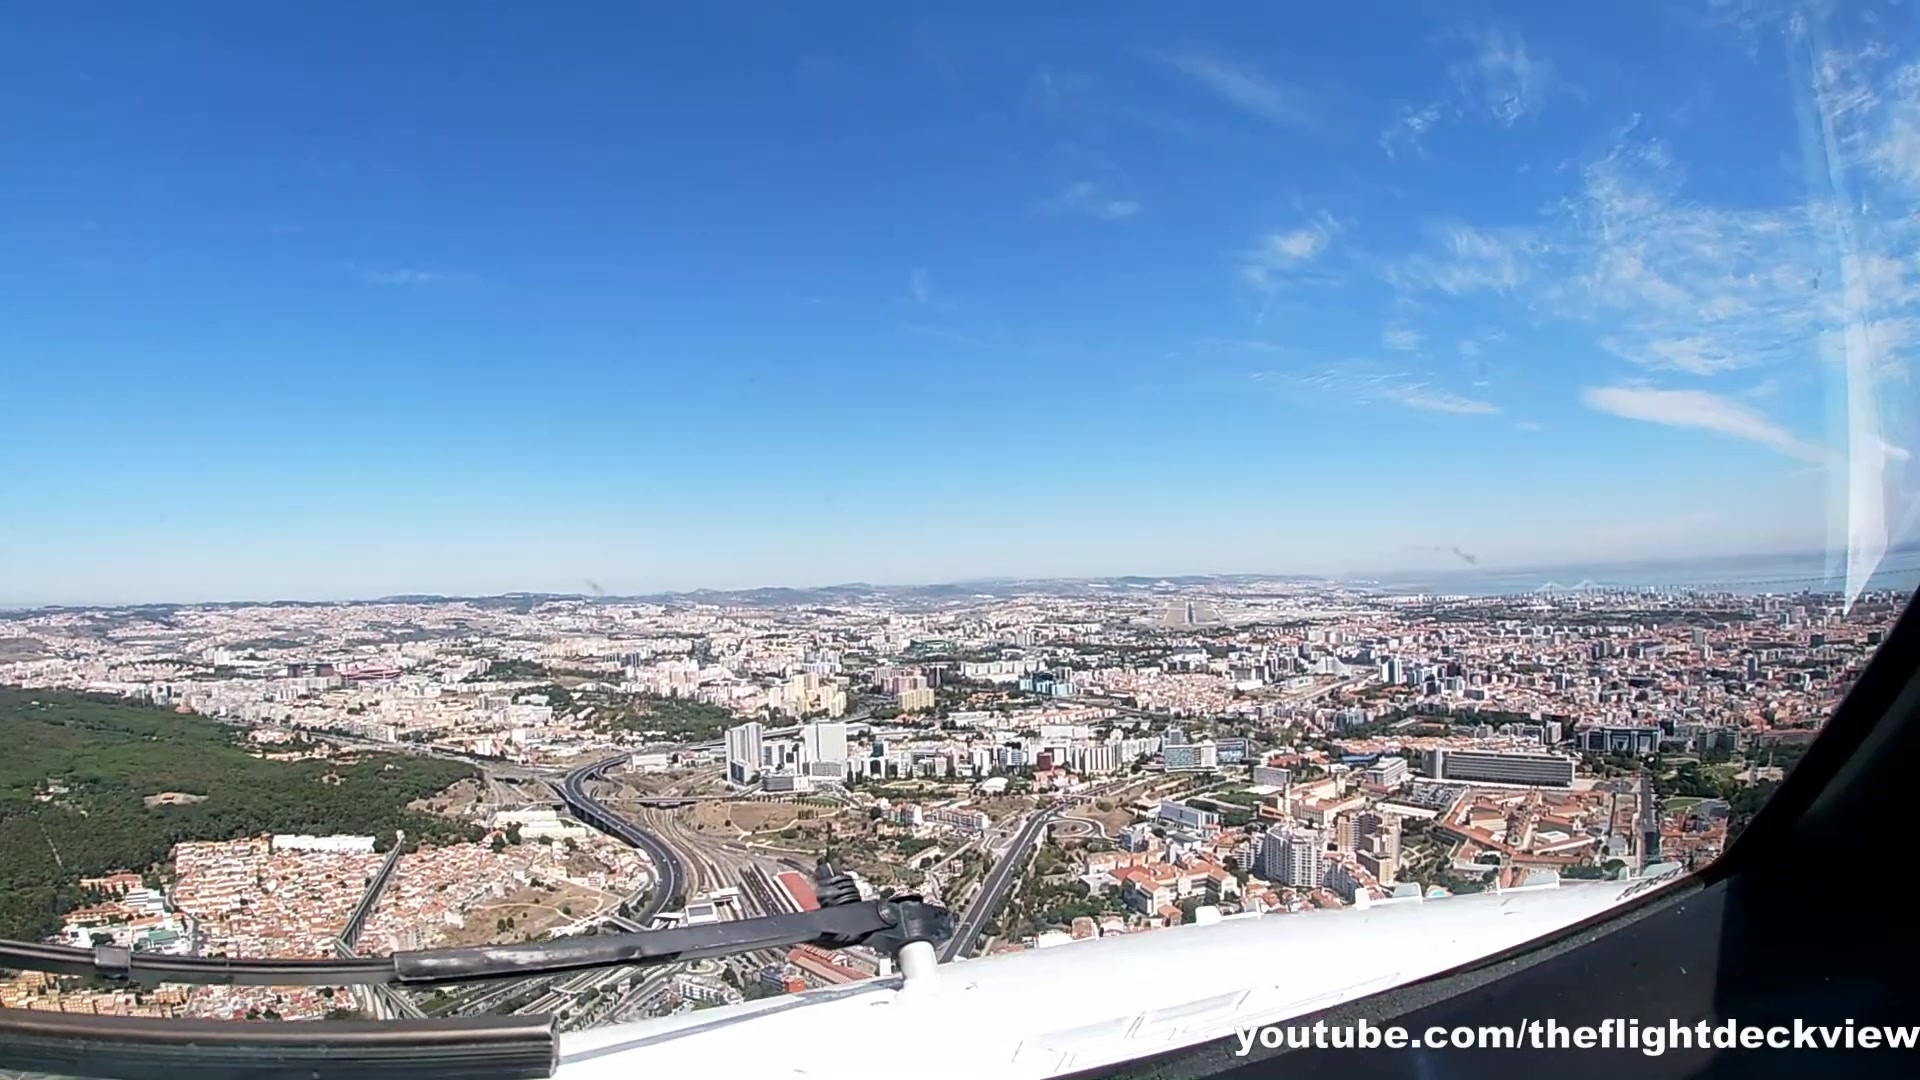runway: (1183, 600, 1197, 626)
